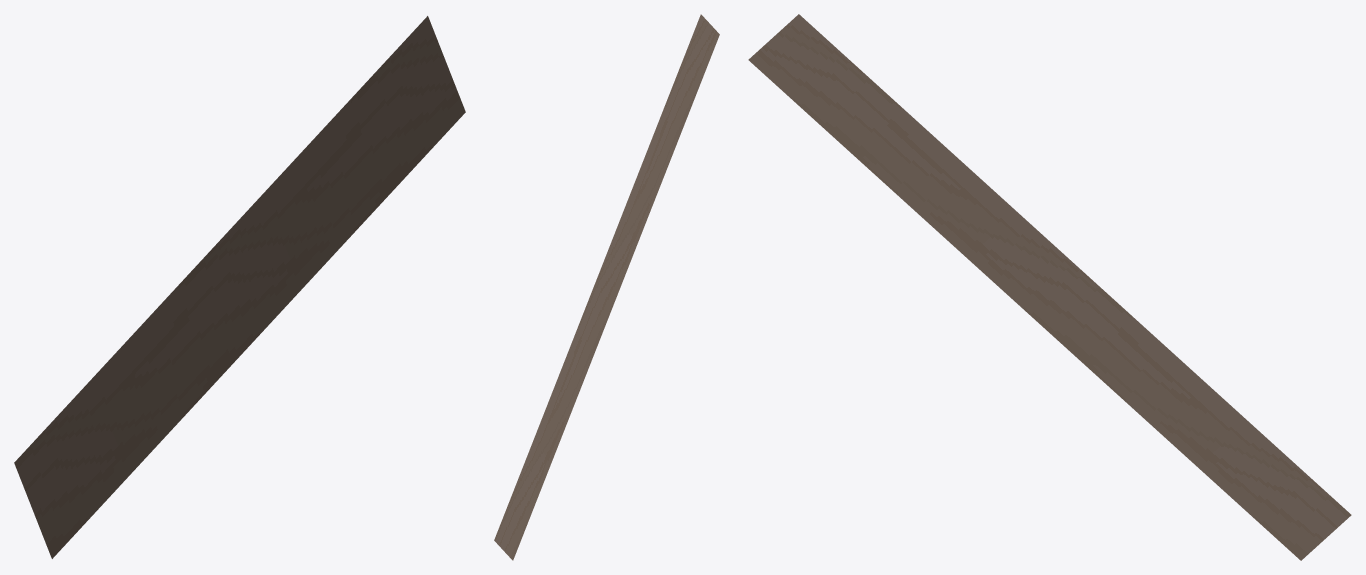
Rendered from kd_stage_135b75_4_17_bounded_portal_piece_9.glb.
3 views of the same model, side by side, from view 1: azimuth 30°, elevation 25°; view 2: azimuth 150°, elevation 25°; view 3: azimuth 270°, elevation 25° (orthographic). The views are drawn at different scales.
Visible parts, largest first — view 1: kd_stage_135b75_4_17_bounded_portal_piece_9; view 2: kd_stage_135b75_4_17_bounded_portal_piece_9; view 3: kd_stage_135b75_4_17_bounded_portal_piece_9.
Part boxes in pixels (x1,y1,x2,y2): kd_stage_135b75_4_17_bounded_portal_piece_9: (14,16,465,558); kd_stage_135b75_4_17_bounded_portal_piece_9: (494,14,719,560); kd_stage_135b75_4_17_bounded_portal_piece_9: (748,14,1351,560).
Size of the model in its own units: 0 by 0.2442 by 0.2442.
Materials: 1 (1 with a texture image).
